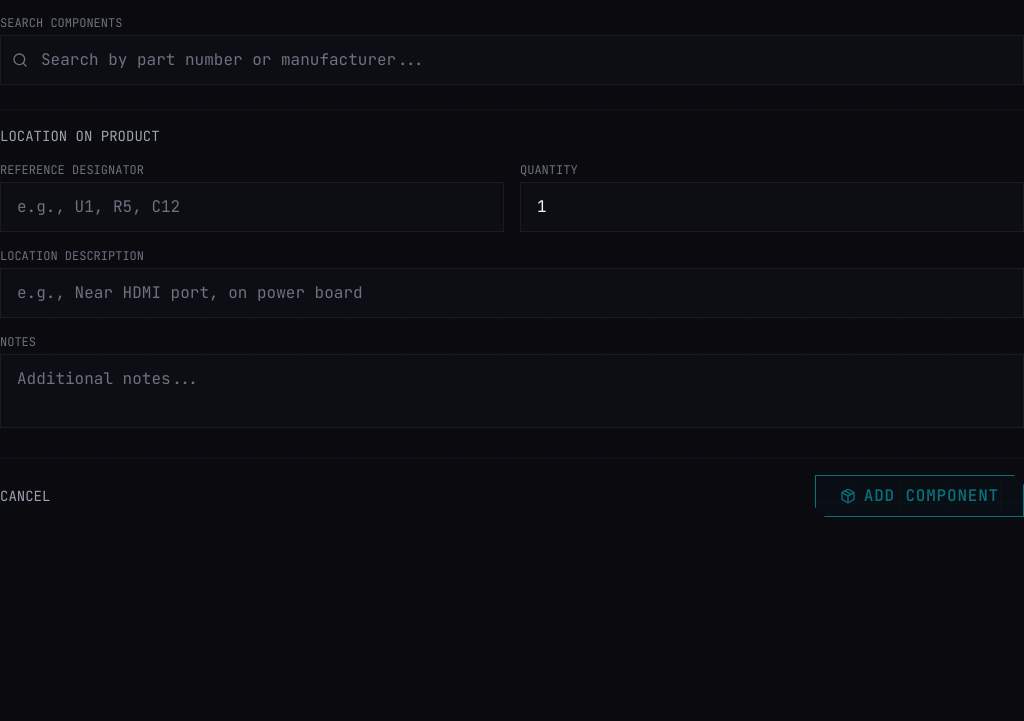
Test case: AddComponentForm › submission › shows success message after submission
Note: Search and select a component
Type "TEST" into the field with placeholder "Search by part number or manufacturer..." at x=512, y=60, box x1=0 y1=35 x2=1023 y2=85
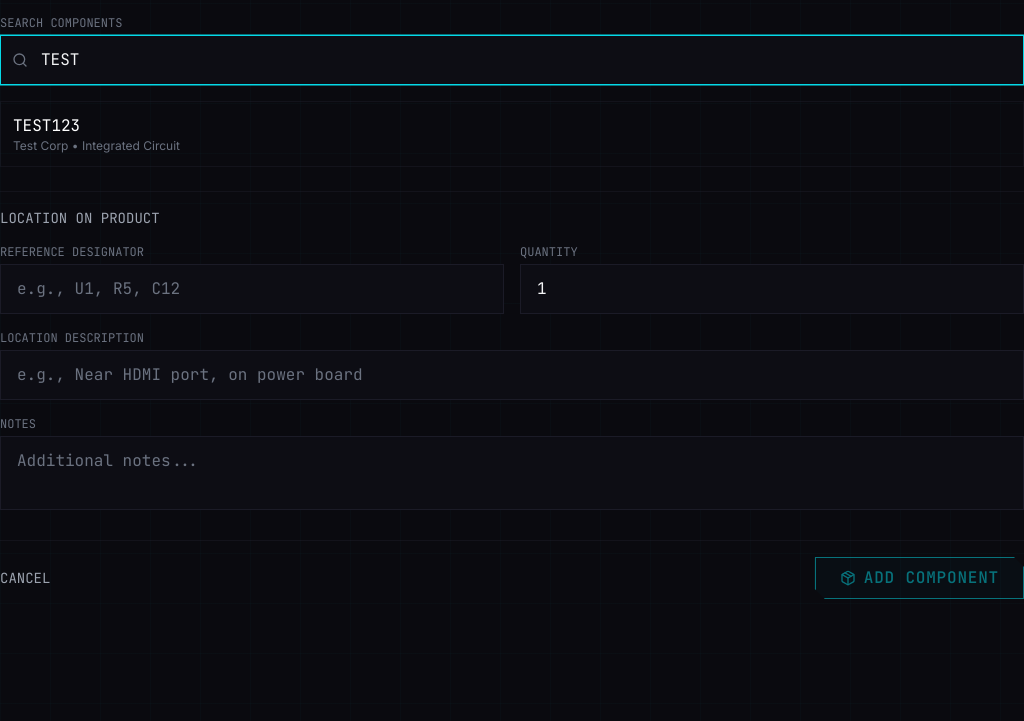
Result: the text "TEST123" is shown
Click the text "TEST123" at x=47, y=126, box x1=13 y1=115 x2=80 y2=136
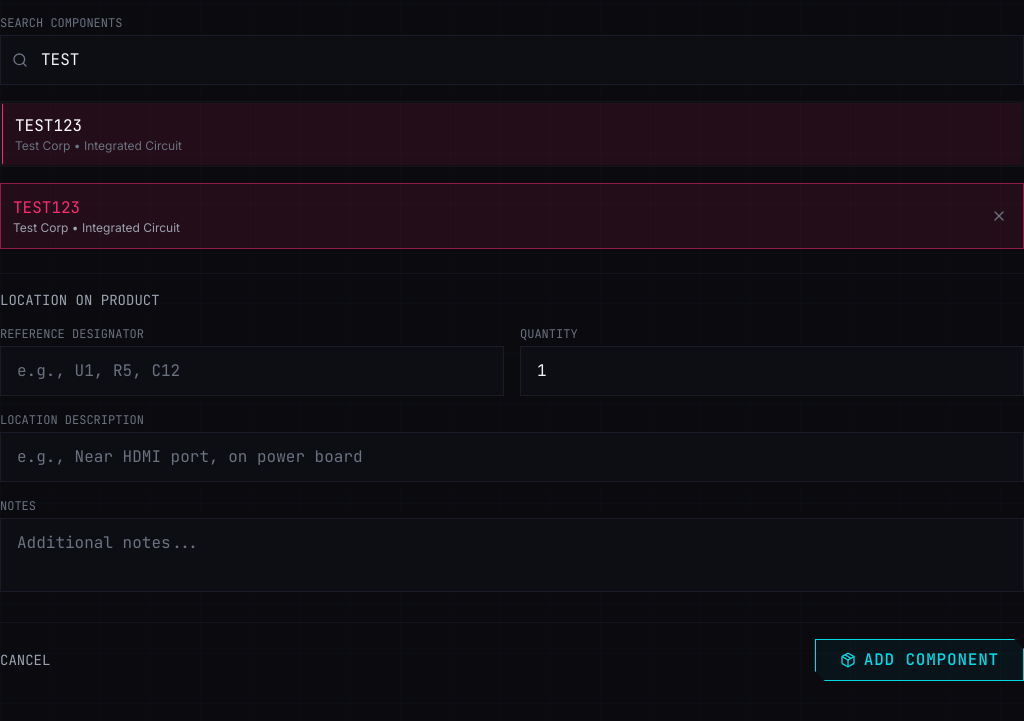
Click the button "ADD COMPONENT" at x=919, y=660, box x1=815 y1=639 x2=1023 y2=681
(page scrolled)
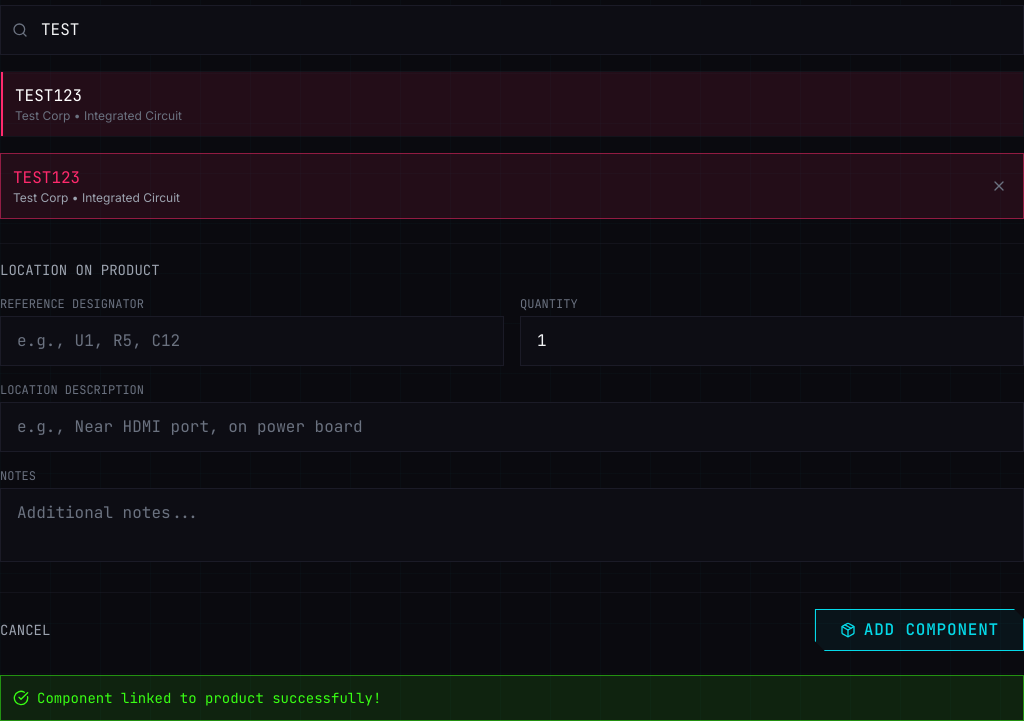
Result: the text "Component linked to product successfully!" is shown at x1=0 y1=675 x2=1023 y2=720
